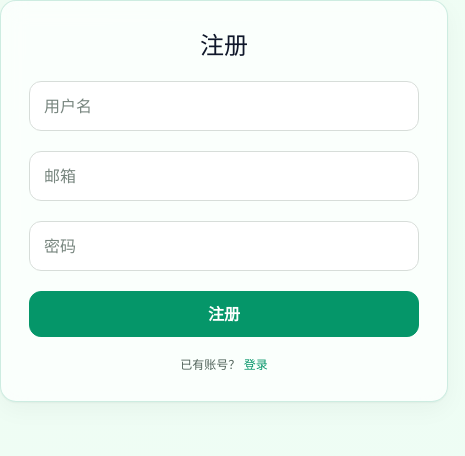
Test: RegisterPage › 密码不足 6 个字符时阻止注册
This screenshot has width=465, height=456.
Step 1. Type "ab" into the field labelled "用户名" → x=224, y=106, box [29,81,419,131]
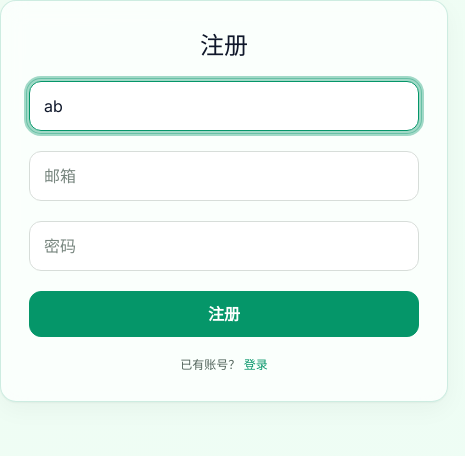
Step 2. Type "user@example.com" into the field labelled "邮箱" → x=224, y=176, box [29,151,419,201]
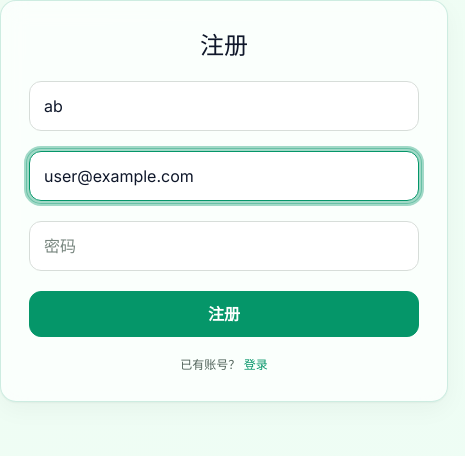
Step 3. Type "12345" into the password field labelled "密码" → x=224, y=246, box [29,221,419,271]
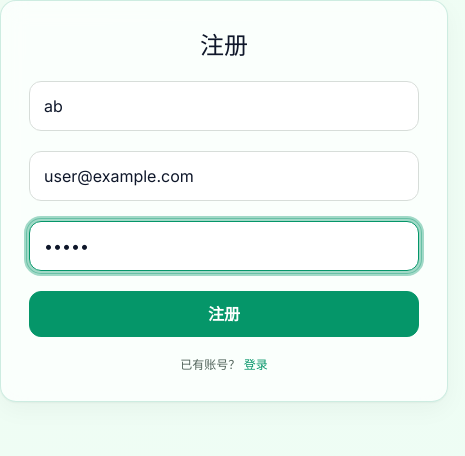
Step 4. Click the button "注册" → x=224, y=314, box [29,291,419,337]
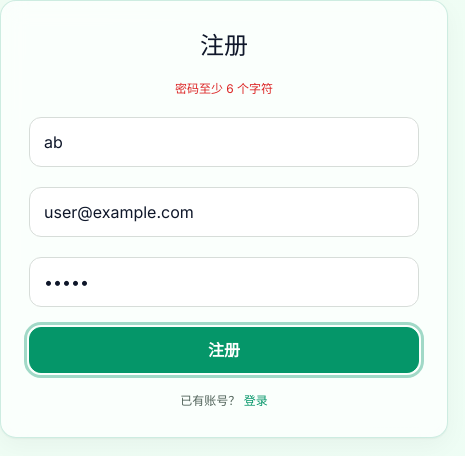
Check: the message reads "密码至少 6 个字符", box [175,81,273,96]
